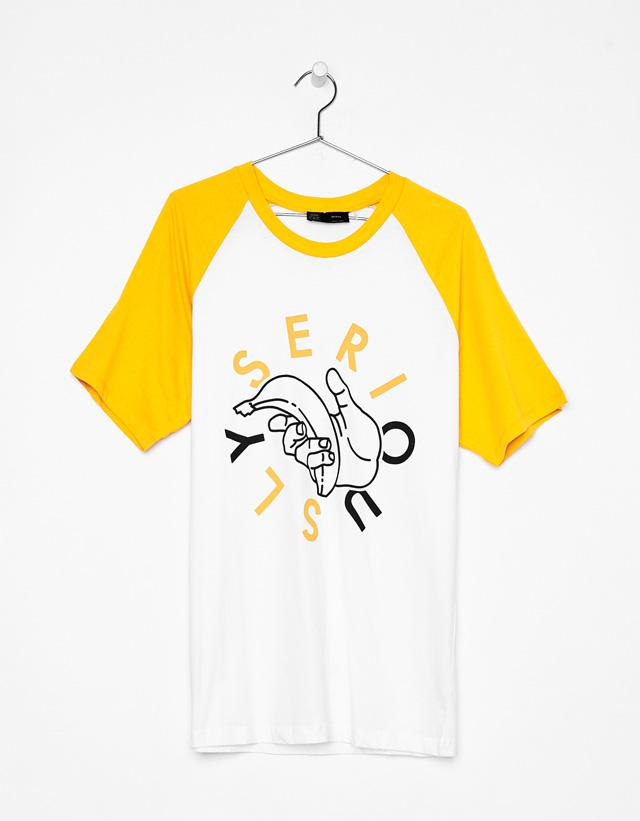teeshirt: (60, 152, 585, 785)
